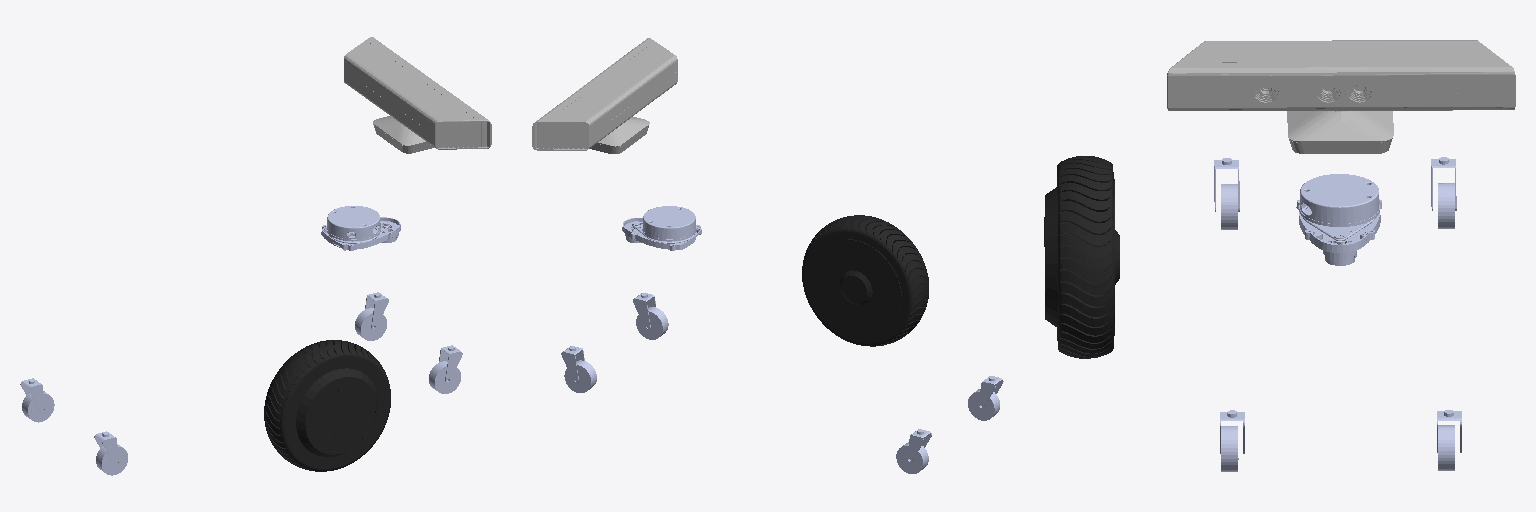
robot.urdf — v5.1:
<?xml version="1.0" encoding="utf-8"?>
<!-- This URDF was automatically created by SolidWorks to URDF Exporter! Originally created by [author] ([email redacted]) 
     Commit Version: 1.6.0-4-g7f85cfe  Build Version: 1.6.7995.38578
     For more information, please see http://wiki.ros.org/sw_urdf_exporter -->
<robot
  name="v5.1">
  <link
    name="base_link">
    <inertial>
      <origin
        xyz="0.0504690235621813 -0.00437721637827637 0.176492565914244"
        rpy="0 0 0" />
      <mass
        value="10.7219695893509" />
      <inertia
        ixx="0.0656660490550788"
        ixy="-0.00023342373523305"
        ixz="0.00132717220536754"
        iyy="0.0852589857293555"
        iyz="6.38933401108655E-06"
        izz="0.0789731919088703" />
    </inertial>
    <visual>
      <origin
        xyz="0 0 0"
        rpy="0 0 0" />
      <geometry>
        <mesh
          filename="package://v5.1/meshes/base_link.STL" />
      </geometry>
      <material
        name="">
        <color
          rgba="0.752941176470588 0.752941176470588 0.752941176470588 1" />
      </material>
    </visual>
    <collision>
      <origin
        xyz="0 0 0"
        rpy="0 0 0" />
      <geometry>
        <mesh
          filename="package://v5.1/meshes/base_link.STL" />
      </geometry>
    </collision>
  </link>
  <link
    name="lidar_link">
    <inertial>
      <origin
        xyz="0.0148383171366371 0.000447683430937817 -0.0211536208297878"
        rpy="0 0 0" />
      <mass
        value="0.0312409127406483" />
      <inertia
        ixx="8.88026370811003E-06"
        ixy="-1.77664494330243E-07"
        ixz="1.13027679917081E-07"
        iyy="1.44910018205432E-05"
        iyz="3.46076114996082E-08"
        izz="2.25289099520269E-05" />
    </inertial>
    <visual>
      <origin
        xyz="0 0 0"
        rpy="0 0 0" />
      <geometry>
        <mesh
          filename="package://v5.1/meshes/lidar_link.STL" />
      </geometry>
      <material
        name="">
        <color
          rgba="0.792156862745098 0.819607843137255 0.933333333333333 1" />
      </material>
    </visual>
    <collision>
      <origin
        xyz="0 0 0"
        rpy="0 0 0" />
      <geometry>
        <mesh
          filename="package://v5.1/meshes/lidar_link.STL" />
      </geometry>
    </collision>
  </link>
  <joint
    name="lidar"
    type="fixed">
    <origin
      xyz="0.155666725643582 0.00112777065633451 0.146099999998099"
      rpy="0 0 0" />
    <parent
      link="base_link" />
    <child
      link="lidar_link" />
    <axis
      xyz="0 0 0" />
  </joint>
  <link
    name="imu_link">
    <inertial>
      <origin
        xyz="-0.000128980117747868 -0.000191495597993169 -0.00384070509348666"
        rpy="0 0 0" />
      <mass
        value="0.000999898118986841" />
      <inertia
        ixx="2.50447716935416E-08"
        ixy="1.0396505624692E-10"
        ixz="-2.68560481634646E-14"
        iyy="1.24513535508531E-08"
        iyz="-1.18565423490066E-14"
        izz="3.06376353115898E-08" />
    </inertial>
    <visual>
      <origin
        xyz="0 0 0"
        rpy="0 0 0" />
      <geometry>
        <mesh
          filename="package://v5.1/meshes/imu_link.STL" />
      </geometry>
      <material
        name="">
        <color
          rgba="0.792156862745098 0.819607843137255 0.933333333333333 1" />
      </material>
    </visual>
    <collision>
      <origin
        xyz="0 0 0"
        rpy="0 0 0" />
      <geometry>
        <mesh
          filename="package://v5.1/meshes/imu_link.STL" />
      </geometry>
    </collision>
  </link>
  <joint
    name="imu"
    type="fixed">
    <origin
      xyz="0.126428933055049 -0.100523077234269 0.0330200000034927"
      rpy="0 0 0" />
    <parent
      link="base_link" />
    <child
      link="imu_link" />
    <axis
      xyz="0 0 0" />
  </joint>
  <link
    name="right_wheel_link">
    <inertial>
      <origin
        xyz="0.000243587829778402 -0.0295000990455644 8.01156363472444E-11"
        rpy="0 0 0" />
      <mass
        value="0.981706650902443" />
      <inertia
        ixx="0.00165298875829609"
        ixy="-1.01208993064455E-05"
        ixz="-1.8168620653086E-09"
        iyy="0.00287861061005824"
        iyz="-1.35675311990675E-11"
        izz="0.00165291235980834" />
    </inertial>
    <visual>
      <origin
        xyz="0 0 0"
        rpy="0 0 0" />
      <geometry>
        <mesh
          filename="package://v5.1/meshes/right_wheel_link.STL" />
      </geometry>
      <material
        name="">
        <color
          rgba="0.2 0.2 0.2 1" />
      </material>
    </visual>
    <collision>
      <origin
        xyz="0 0 0"
        rpy="0 0 0" />
      <geometry>
        <mesh
          filename="package://v5.1/meshes/right_wheel_link.STL" />
      </geometry>
    </collision>
  </link>
  <joint
    name="right_wheel"
    type="continuous">
    <origin
      xyz="0.00157556970077044 -0.175020257687692 0.0150000000042175"
      rpy="0 0 0" />
    <parent
      link="base_link" />
    <child
      link="right_wheel_link" />
    <axis
      xyz="-0.00825691107326283 0.999965911128739 0" />
  </joint>
  <link
    name="left_wheel_link">
    <inertial>
      <origin
        xyz="-0.000243587829778624 0.0295000990455639 8.01149702134296E-11"
        rpy="0 0 0" />
      <mass
        value="0.981706650902443" />
      <inertia
        ixx="0.00165299120834847"
        ixy="-1.01249109871006E-05"
        ixz="-1.44984115092953E-08"
        iyy="0.00287861950901393"
        iyz="7.25004217163637E-11"
        izz="0.00165291988234476" />
    </inertial>
    <visual>
      <origin
        xyz="0 0 0"
        rpy="0 0 0" />
      <geometry>
        <mesh
          filename="package://v5.1/meshes/left_wheel_link.STL" />
      </geometry>
      <material
        name="">
        <color
          rgba="0.2 0.2 0.2 1" />
      </material>
    </visual>
    <collision>
      <origin
        xyz="0 0 0"
        rpy="0 0 0" />
      <geometry>
        <mesh
          filename="package://v5.1/meshes/left_wheel_link.STL" />
      </geometry>
    </collision>
  </link>
  <joint
    name="left_wheel"
    type="continuous">
    <origin
      xyz="-0.00131434917487327 0.174967811207364 0.0150000000042175"
      rpy="0 0 0" />
    <parent
      link="base_link" />
    <child
      link="left_wheel_link" />
    <axis
      xyz="0.00825691107326281 -0.999965911128739 0" />
  </joint>
  <link
    name="camera_link">
    <inertial>
      <origin
        xyz="-0.0286974043856942 -0.00315323141543045 -0.00696427170361813"
        rpy="0 0 0" />
      <mass
        value="0.646454884722171" />
      <inertia
        ixx="0.0028423827313704"
        ixy="1.87273045722636E-05"
        ixz="1.48075090936083E-07"
        iyy="0.000263758634244186"
        iyz="-3.33736128214345E-08"
        izz="0.00296274058967308" />
    </inertial>
    <visual>
      <origin
        xyz="0 0 0"
        rpy="0 0 0" />
      <geometry>
        <mesh
          filename="package://v5.1/meshes/camera_link.STL" />
      </geometry>
      <material
        name="">
        <color
          rgba="0.752941176470588 0.752941176470588 0.752941176470588 1" />
      </material>
    </visual>
    <collision>
      <origin
        xyz="0 0 0"
        rpy="0 0 0" />
      <geometry>
        <mesh
          filename="package://v5.1/meshes/camera_link.STL" />
      </geometry>
    </collision>
  </link>
  <joint
    name="cam"
    type="fixed">
    <origin
      xyz="0.264952270554911 0.00535821231736117 0.284425164615102"
      rpy="0 0 0" />
    <parent
      link="base_link" />
    <child
      link="camera_link" />
    <axis
      xyz="0 0 0" />
  </joint>
  <link
    name="caster_frle_Link">
    <inertial>
      <origin
        xyz="1.65138221474015E-05 -0.00199993182225411 1.27675647831893E-15"
        rpy="0 0 0" />
      <mass
        value="0.0148770120110745" />
      <inertia
        ixx="1.53085377929143E-06"
        ixy="-8.6265278990257E-09"
        ixz="4.06030491232852E-22"
        iyy="2.57551147351535E-06"
        iyz="-3.56752785981449E-21"
        izz="1.53078254838952E-06" />
    </inertial>
    <visual>
      <origin
        xyz="0 0 0"
        rpy="0 0 0" />
      <geometry>
        <mesh
          filename="package://v5.1/meshes/caster_frle_Link.STL" />
      </geometry>
      <material
        name="">
        <color
          rgba="0.792156862745098 0.819607843137255 0.933333333333333 1" />
      </material>
    </visual>
    <collision>
      <origin
        xyz="0 0 0"
        rpy="0 0 0" />
      <geometry>
        <mesh
          filename="package://v5.1/meshes/caster_frle_Link.STL" />
      </geometry>
    </collision>
  </link>
  <joint
    name="frle_caster"
    type="continuous">
    <origin
      xyz="0.230383218672147 -0.084998630059868 -0.0479499999957926"
      rpy="0 0 0" />
    <parent
      link="base_link" />
    <child
      link="caster_frle_Link" />
    <axis
      xyz="-0.00825691107325917 0.999965911128739 0" />
  </joint>
  <link
    name="caster_frrig_Link">
    <inertial>
      <origin
        xyz="1.65138221472905E-05 -0.00199993182225411 1.33226762955019E-15"
        rpy="0 0 0" />
      <mass
        value="0.0148770120110745" />
      <inertia
        ixx="1.53085377929143E-06"
        ixy="-8.62652789902565E-09"
        ixz="3.97035577962783E-22"
        iyy="2.57551147351535E-06"
        iyz="-2.49751981781507E-21"
        izz="1.53078254838952E-06" />
    </inertial>
    <visual>
      <origin
        xyz="0 0 0"
        rpy="0 0 0" />
      <geometry>
        <mesh
          filename="package://v5.1/meshes/caster_frrig_Link.STL" />
      </geometry>
      <material
        name="">
        <color
          rgba="0.792156862745098 0.819607843137255 0.933333333333333 1" />
      </material>
    </visual>
    <collision>
      <origin
        xyz="0 0 0"
        rpy="0 0 0" />
      <geometry>
        <mesh
          filename="package://v5.1/meshes/caster_frrig_Link.STL" />
      </geometry>
    </collision>
  </link>
  <joint
    name="frrig_caster"
    type="continuous">
    <origin
      xyz="0.2289465161454 0.0889954384765326 -0.0479499999957927"
      rpy="0 0 0" />
    <parent
      link="base_link" />
    <child
      link="caster_frrig_Link" />
    <axis
      xyz="-0.00825691107325917 0.999965911128739 0" />
  </joint>
  <link
    name="caster_bale_Link">
    <inertial>
      <origin
        xyz="-1.65138221470684E-05 0.001999931822254 1.38777878078145E-15"
        rpy="0 0 0" />
      <mass
        value="0.0148770120110745" />
      <inertia
        ixx="1.53085377929143E-06"
        ixy="-8.62652789902388E-09"
        ixz="-3.85935973626152E-22"
        iyy="2.57551147351535E-06"
        iyz="3.50565403842201E-21"
        izz="1.53078254838952E-06" />
    </inertial>
    <visual>
      <origin
        xyz="0 0 0"
        rpy="0 0 0" />
      <geometry>
        <mesh
          filename="package://v5.1/meshes/caster_bale_Link.STL" />
      </geometry>
      <material
        name="">
        <color
          rgba="0.792156862745098 0.819607843137255 0.933333333333333 1" />
      </material>
    </visual>
    <collision>
      <origin
        xyz="0 0 0"
        rpy="0 0 0" />
      <geometry>
        <mesh
          filename="package://v5.1/meshes/caster_bale_Link.STL" />
      </geometry>
    </collision>
  </link>
  <joint
    name="bale_caster"
    type="continuous">
    <origin
      xyz="-0.228685295616864 -0.089047884956824 -0.0479499999957891"
      rpy="0 0 0" />
    <parent
      link="base_link" />
    <child
      link="caster_bale_Link" />
    <axis
      xyz="0.00825691107325364 -0.999965911128739 0" />
  </joint>
  <link
    name="caster_barig_Link">
    <inertial>
      <origin
        xyz="-1.65138221468464E-05 0.00199993182225394 1.33226762955019E-15"
        rpy="0 0 0" />
      <mass
        value="0.0148770120110745" />
      <inertia
        ixx="1.53085377929143E-06"
        ixy="-8.62652789902401E-09"
        ixz="-3.03228009790437E-22"
        iyy="2.57551147351535E-06"
        iyz="3.49833425677372E-21"
        izz="1.53078254838952E-06" />
    </inertial>
    <visual>
      <origin
        xyz="0 0 0"
        rpy="0 0 0" />
      <geometry>
        <mesh
          filename="package://v5.1/meshes/caster_barig_Link.STL" />
      </geometry>
      <material
        name="">
        <color
          rgba="0.792156862745098 0.819607843137255 0.933333333333333 1" />
      </material>
    </visual>
    <collision>
      <origin
        xyz="0 0 0"
        rpy="0 0 0" />
      <geometry>
        <mesh
          filename="package://v5.1/meshes/caster_barig_Link.STL" />
      </geometry>
    </collision>
  </link>
  <joint
    name="barig_caster"
    type="continuous">
    <origin
      xyz="-0.23012199814361 0.0849461835795765 -0.047949999995789"
      rpy="0 0 0" />
    <parent
      link="base_link" />
    <child
      link="caster_barig_Link" />
    <axis
      xyz="0 0 1" />
  </joint>
  <link
    name="frle_Link">
    <inertial>
      <origin
        xyz="-0.00243927760199514 0 -0.0122411713493416"
        rpy="0 0 0" />
      <mass
        value="0.00146243132498549" />
      <inertia
        ixx="2.77088330082138E-07"
        ixy="-1.80118578383422E-22"
        ixz="-4.80219091733957E-08"
        iyy="2.17616225823839E-07"
        iyz="-2.44114090827206E-22"
        izz="1.42128082433692E-07" />
    </inertial>
    <visual>
      <origin
        xyz="0 0 0"
        rpy="0 0 0" />
      <geometry>
        <mesh
          filename="package://v5.1/meshes/frle_Link.STL" />
      </geometry>
      <material
        name="">
        <color
          rgba="0.792156862745098 0.819607843137255 0.933333333333333 1" />
      </material>
    </visual>
    <collision>
      <origin
        xyz="0 0 0"
        rpy="0 0 0" />
      <geometry>
        <mesh
          filename="package://v5.1/meshes/frle_Link.STL" />
      </geometry>
    </collision>
  </link>
  <joint
    name="frle_joint"
    type="continuous">
    <origin
      xyz="0.240339729506114 -0.084916417232767 -0.0124499999957849"
      rpy="0 0 0.00825700489746226" />
    <parent
      link="base_link" />
    <child
      link="frle_Link" />
    <axis
      xyz="0 0 1" />
  </joint>
  <link
    name="frrig_Link">
    <inertial>
      <origin
        xyz="-0.00243919444977492 -2.01408982427043E-05 -0.0122411713493417"
        rpy="0 0 0" />
      <mass
        value="0.0014624313249855" />
      <inertia
        ixx="2.77084275477437E-07"
        ixy="4.91039136659567E-10"
        ixz="-4.80202721607161E-08"
        iyy="2.17620280428541E-07"
        iyz="-3.96512633613084E-10"
        izz="1.42128082433692E-07" />
    </inertial>
    <visual>
      <origin
        xyz="0 0 0"
        rpy="0 0 0" />
      <geometry>
        <mesh
          filename="package://v5.1/meshes/frrig_Link.STL" />
      </geometry>
      <material
        name="">
        <color
          rgba="0.792156862745098 0.819607843137255 0.933333333333333 1" />
      </material>
    </visual>
    <collision>
      <origin
        xyz="0 0 0"
        rpy="0 0 0" />
      <geometry>
        <mesh
          filename="package://v5.1/meshes/frrig_Link.STL" />
      </geometry>
    </collision>
  </link>
  <joint
    name="frrig_joint"
    type="continuous">
    <origin
      xyz="0.238903026979367 0.0890776513036337 -0.0124499999957849"
      rpy="0 0 0" />
    <parent
      link="base_link" />
    <child
      link="frrig_Link" />
    <axis
      xyz="0 0 1" />
  </joint>
  <link
    name="bale_Link">
    <inertial>
      <origin
        xyz="0.00243919444977503 2.01408982427598E-05 -0.0122411713493416"
        rpy="0 0 0" />
      <mass
        value="0.00146243132498551" />
      <inertia
        ixx="2.77084275477441E-07"
        ixy="4.91039136659008E-10"
        ixz="4.80202721607167E-08"
        iyy="2.17620280428546E-07"
        iyz="3.96512633613964E-10"
        izz="1.42128082433692E-07" />
    </inertial>
    <visual>
      <origin
        xyz="0 0 0"
        rpy="0 0 0" />
      <geometry>
        <mesh
          filename="package://v5.1/meshes/bale_Link.STL" />
      </geometry>
      <material
        name="">
        <color
          rgba="0.792156862745098 0.819607843137255 0.933333333333333 1" />
      </material>
    </visual>
    <collision>
      <origin
        xyz="0 0 0"
        rpy="0 0 0" />
      <geometry>
        <mesh
          filename="package://v5.1/meshes/bale_Link.STL" />
      </geometry>
    </collision>
  </link>
  <joint
    name="bale_joint"
    type="continuous">
    <origin
      xyz="-0.238641806450831 -0.0891300977839249 -0.0124499999957813"
      rpy="0 0 0" />
    <parent
      link="base_link" />
    <child
      link="bale_Link" />
    <axis
      xyz="0 0 1" />
  </joint>
  <link
    name="barig_Link">
    <inertial>
      <origin
        xyz="0.00243919444977503 2.01408982427043E-05 -0.0122411713493417"
        rpy="0 0 0" />
      <mass
        value="0.00146243132498551" />
      <inertia
        ixx="2.77084275477441E-07"
        ixy="4.91039136659184E-10"
        ixz="4.80202721607167E-08"
        iyy="2.17620280428546E-07"
        iyz="3.96512633613896E-10"
        izz="1.42128082433693E-07" />
    </inertial>
    <visual>
      <origin
        xyz="0 0 0"
        rpy="0 0 0" />
      <geometry>
        <mesh
          filename="package://v5.1/meshes/barig_Link.STL" />
      </geometry>
      <material
        name="">
        <color
          rgba="0.792156862745098 0.819607843137255 0.933333333333333 1" />
      </material>
    </visual>
    <collision>
      <origin
        xyz="0 0 0"
        rpy="0 0 0" />
      <geometry>
        <mesh
          filename="package://v5.1/meshes/barig_Link.STL" />
      </geometry>
    </collision>
  </link>
  <joint
    name="barig_joint"
    type="continuous">
    <origin
      xyz="-0.240078508977577 0.0848639707524755 -0.0124499999957812"
      rpy="0 0 0" />
    <parent
      link="base_link" />
    <child
      link="barig_Link" />
    <axis
      xyz="0 0 1" />
  </joint>
</robot>

--- What the picture shows (computed from the rendered views, not written in the file) ---
The picture shows the robot from 3 angles, left to right: view 1: azimuth 30°, elevation 25°; view 2: azimuth 150°, elevation 25°; view 3: azimuth 270°, elevation 25°; orthographic projection.
Model v5.1 with 14 links and 13 joints (10 continuous, 3 fixed), rooted at base_link, posed all joints at 0.
Links seen in each view (by area): view 1: right_wheel_link, camera_link, lidar_link, caster_frle_Link, caster_frrig_Link, caster_bale_Link, caster_barig_Link; view 2: right_wheel_link, camera_link, lidar_link, caster_frle_Link, caster_frrig_Link, caster_barig_Link, caster_bale_Link; view 3: camera_link, right_wheel_link, lidar_link, caster_frle_Link, caster_frrig_Link, caster_bale_Link, caster_barig_Link.
Link boxes in pixels (<box>): right_wheel_link: <box>264,340,390,471</box>; camera_link: <box>344,37,491,153</box>; lidar_link: <box>321,206,400,250</box>; caster_frle_Link: <box>429,361,460,393</box>; caster_frrig_Link: <box>355,308,386,340</box>; caster_bale_Link: <box>96,444,127,475</box>; caster_barig_Link: <box>22,391,54,422</box>; right_wheel_link: <box>802,215,928,346</box>; camera_link: <box>532,38,677,153</box>; lidar_link: <box>622,206,701,250</box>; caster_frle_Link: <box>636,307,668,339</box>; caster_frrig_Link: <box>564,360,596,392</box>; caster_barig_Link: <box>896,442,928,473</box>; caster_bale_Link: <box>968,389,999,420</box>; camera_link: <box>1167,40,1515,153</box>; right_wheel_link: <box>1044,156,1119,358</box>; lidar_link: <box>1296,174,1381,265</box>; caster_frle_Link: <box>1221,426,1238,471</box>; caster_frrig_Link: <box>1438,425,1454,470</box>; caster_bale_Link: <box>1221,184,1237,229</box>; caster_barig_Link: <box>1438,183,1454,228</box>.
Size in the robot's own frame: 0.5228 by 0.3777 by 0.3699 metres.
11 mesh visuals loaded from 14 distinct referenced files (11 binary STL); not drawn: 3 (reference not matched to a file when rendering).